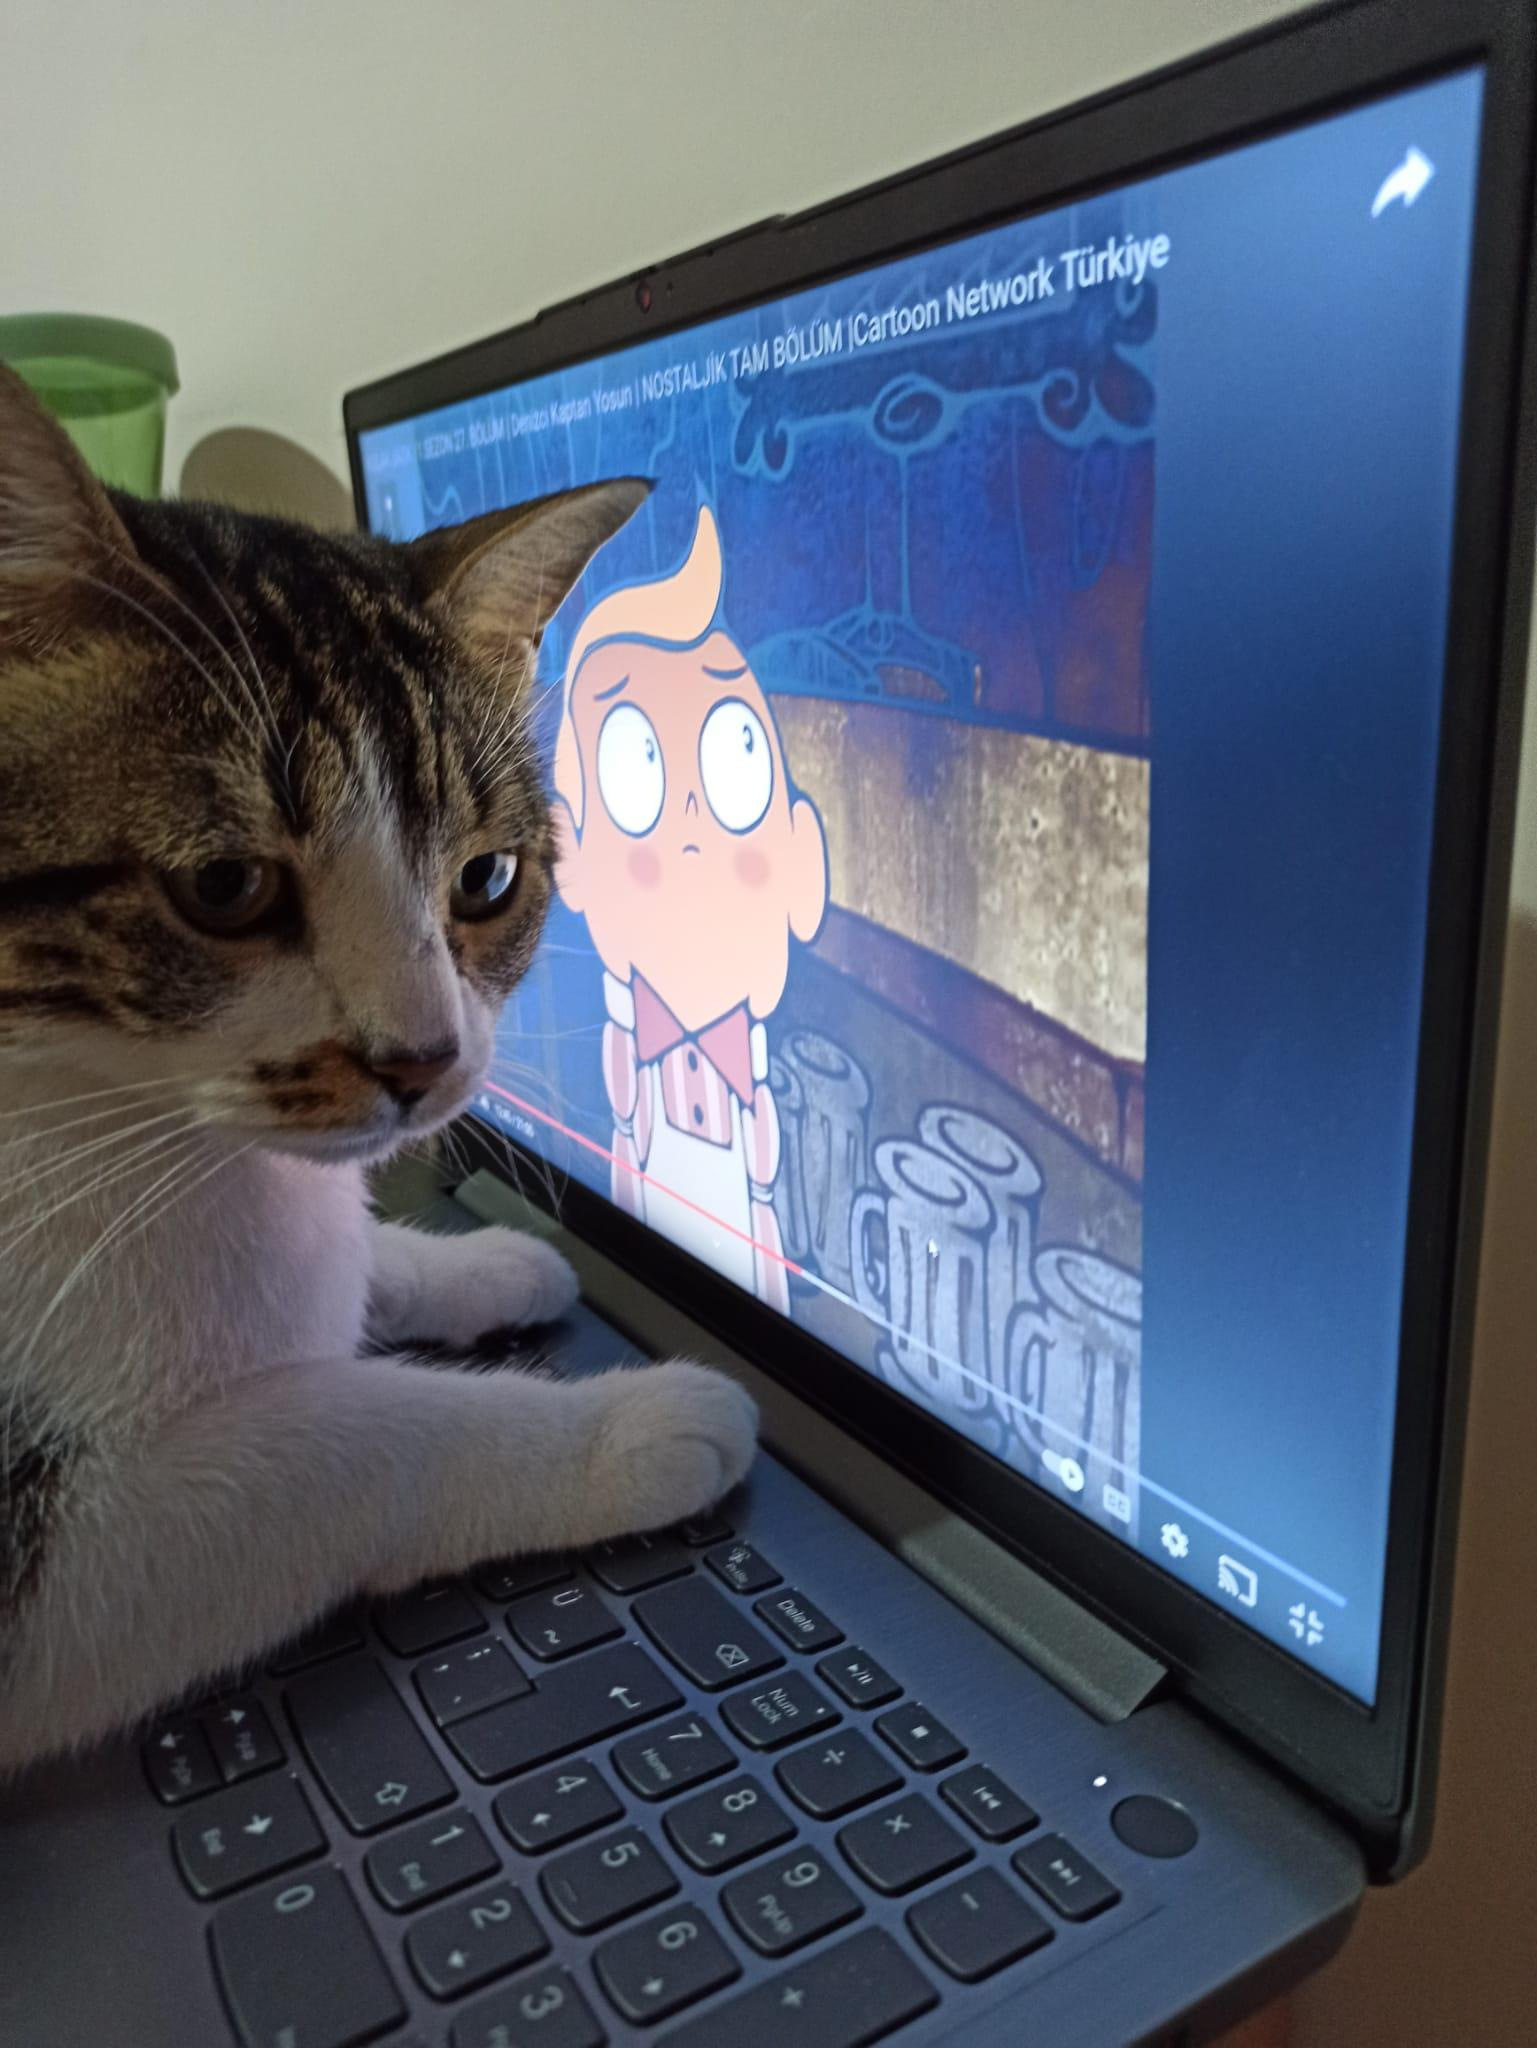kedo: (0, 350, 754, 1733)
